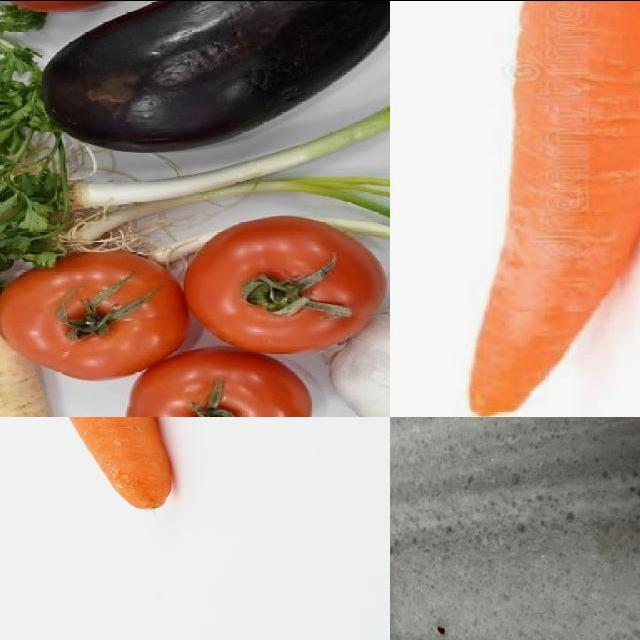carrot: (450, 1, 640, 417), (1, 417, 175, 510)
eggplant: (34, 1, 391, 150)
garlic: (333, 309, 391, 417)
tomato: (181, 219, 373, 349), (1, 251, 185, 374), (116, 356, 309, 417)
